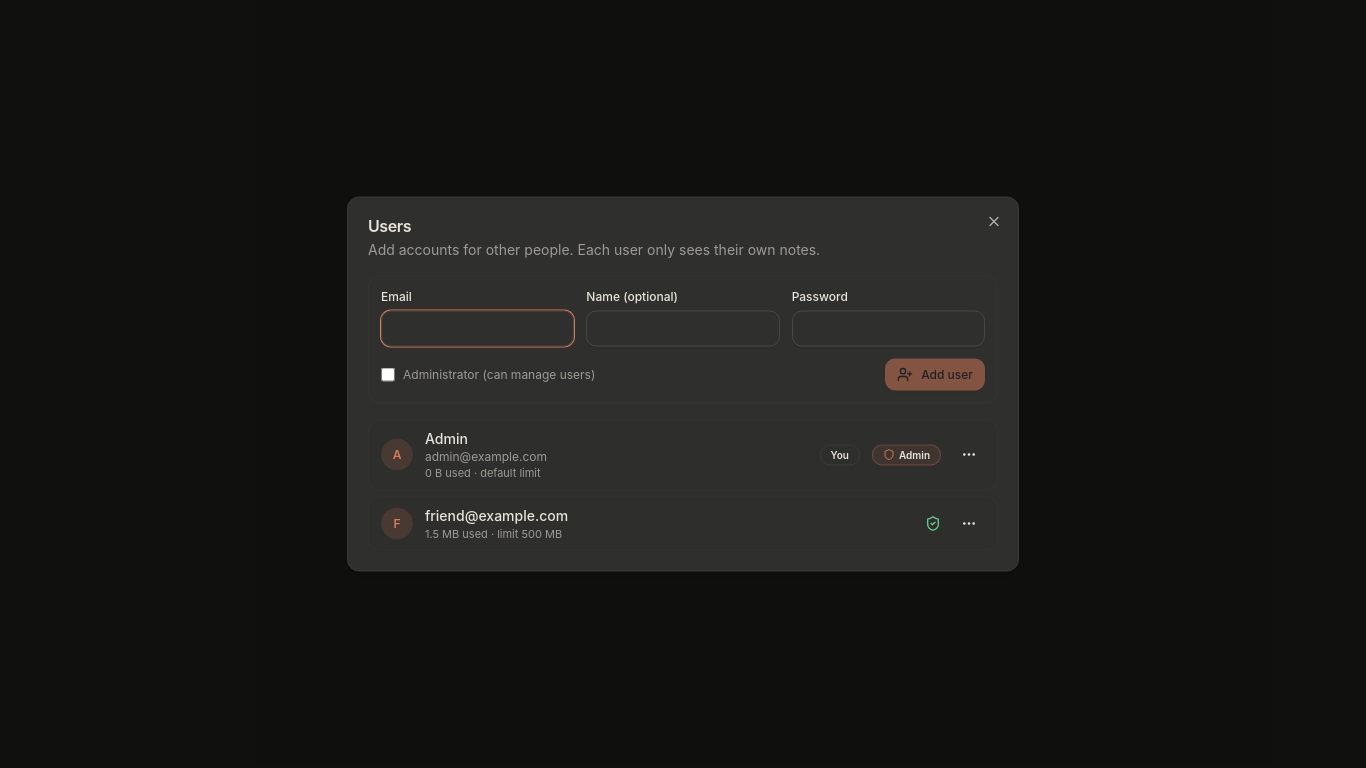
Test: UsersDialog › lists the accounts and adds a user
This screenshot has width=1366, height=768.
expect the text "friend@example.com" is shown: met, box left=425, top=506, right=568, bottom=523
expect the text "You" is shown: met, box left=820, top=444, right=860, bottom=465
Type " new@example.com " into the field labelled "Email" at (478, 328), box left=381, top=310, right=574, bottom=346
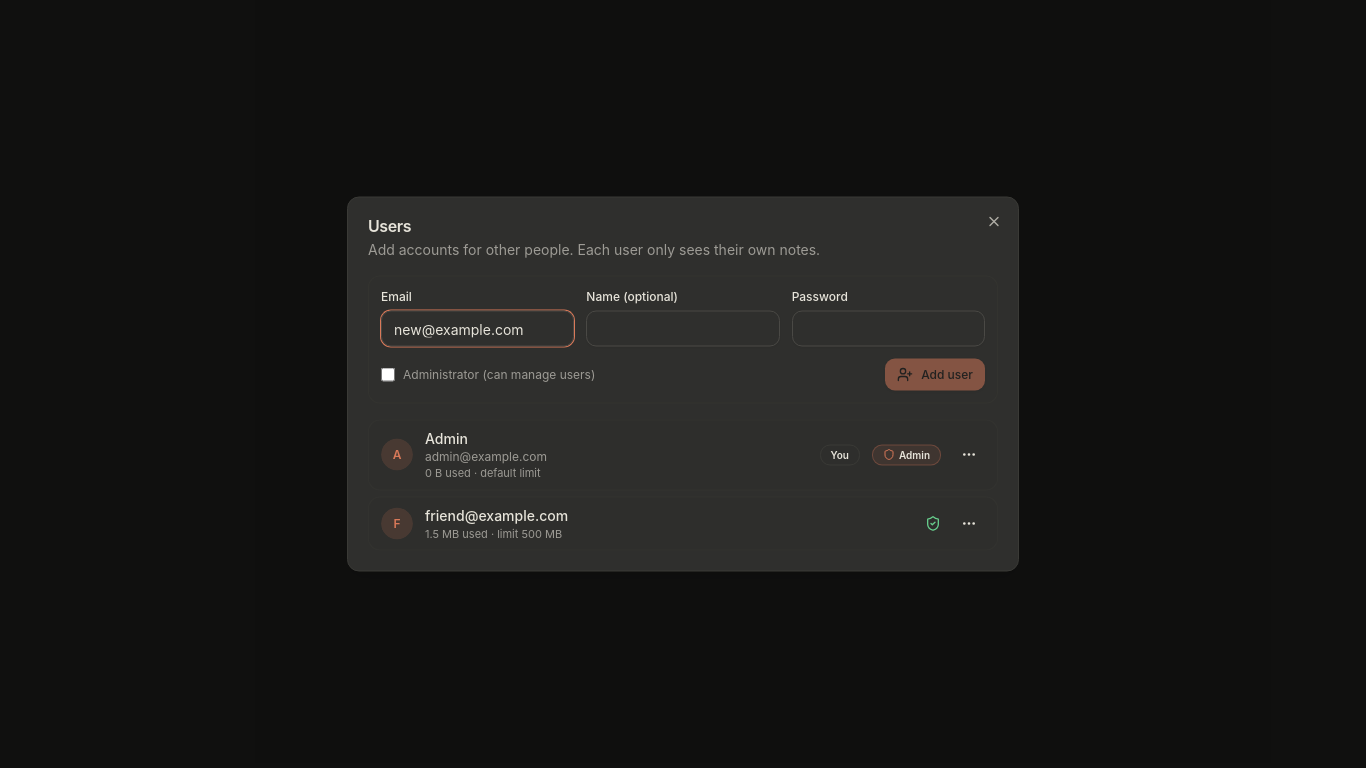
Type "short" into the password field labelled "Password" at (888, 328), box left=792, top=310, right=985, bottom=346
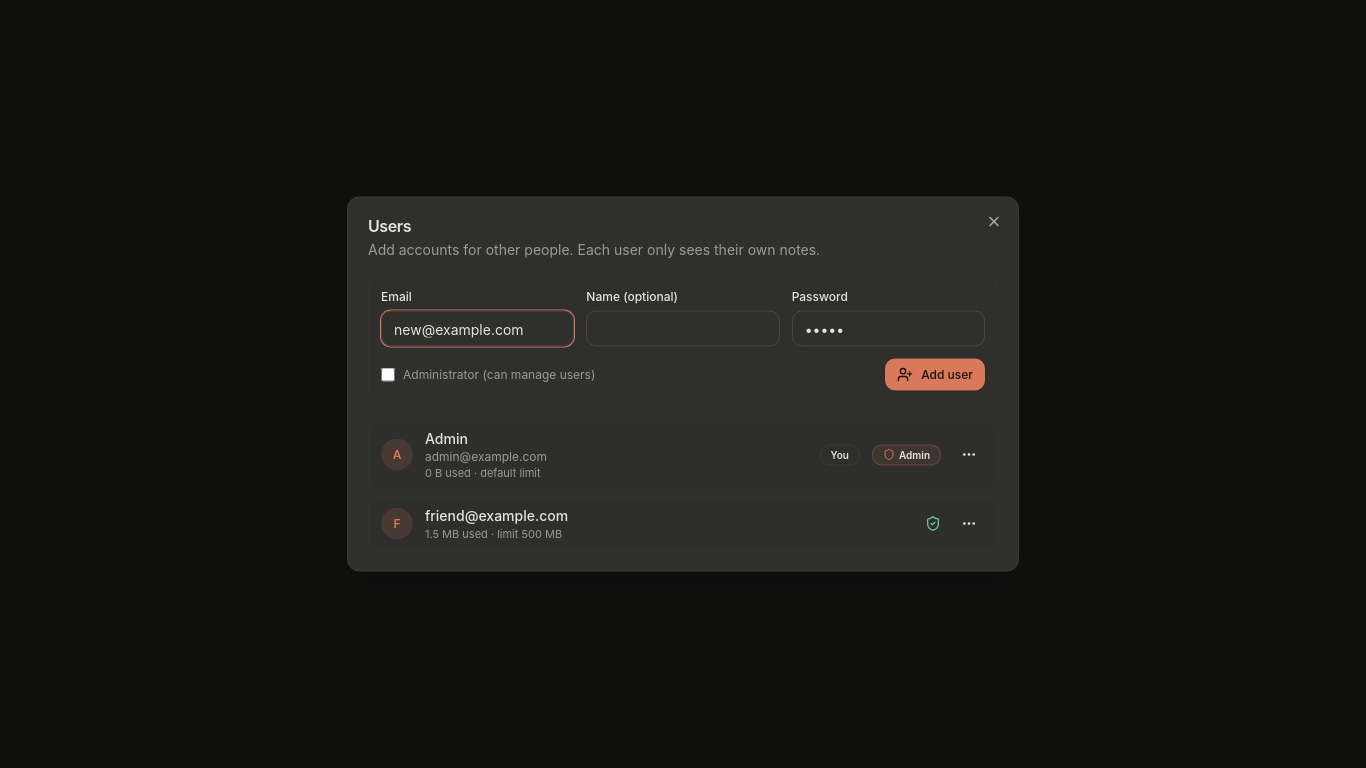
Click the button "Add user" at (935, 374), box left=885, top=358, right=985, bottom=390
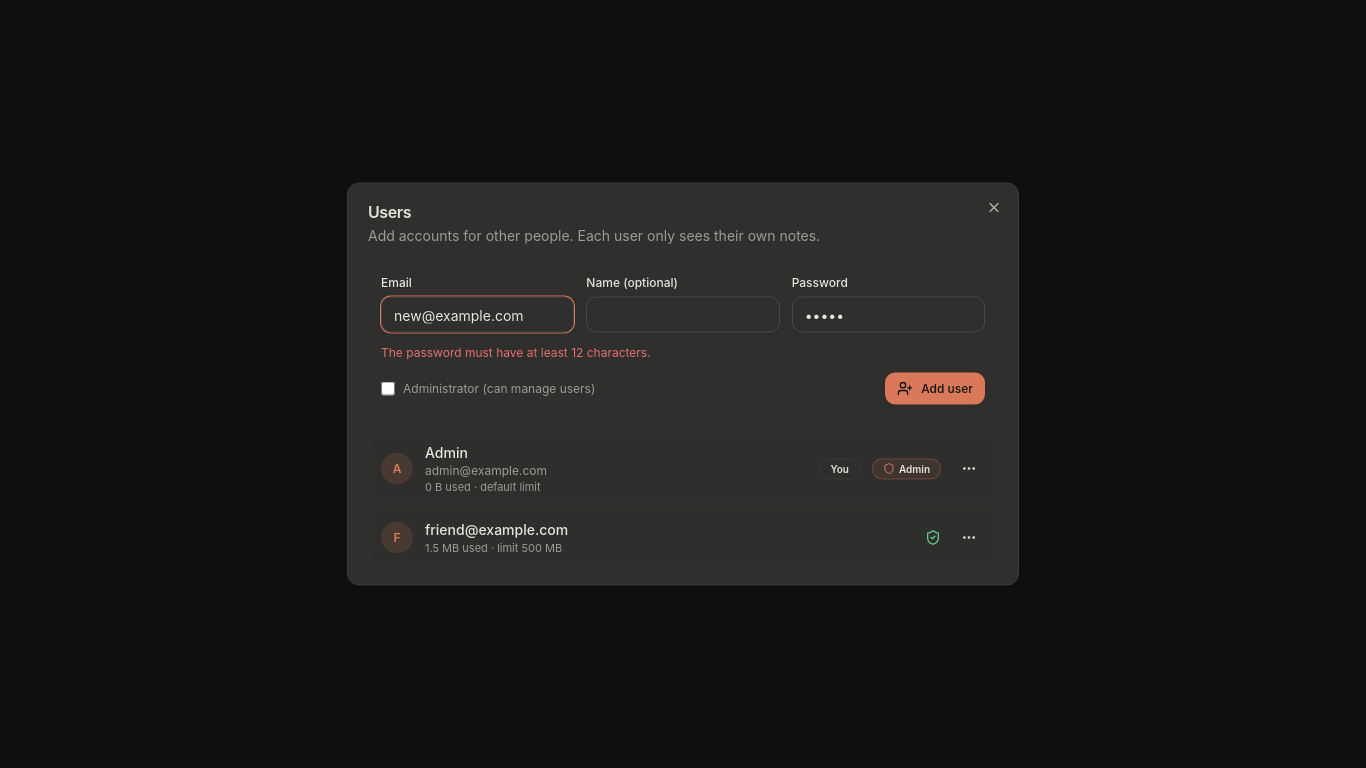
expect the message "The password must have at least 12 characters." is shown: met, box left=381, top=344, right=651, bottom=360
Type "long-enough-password" into the password field labelled "Password" at (888, 314), box left=792, top=296, right=985, bottom=332
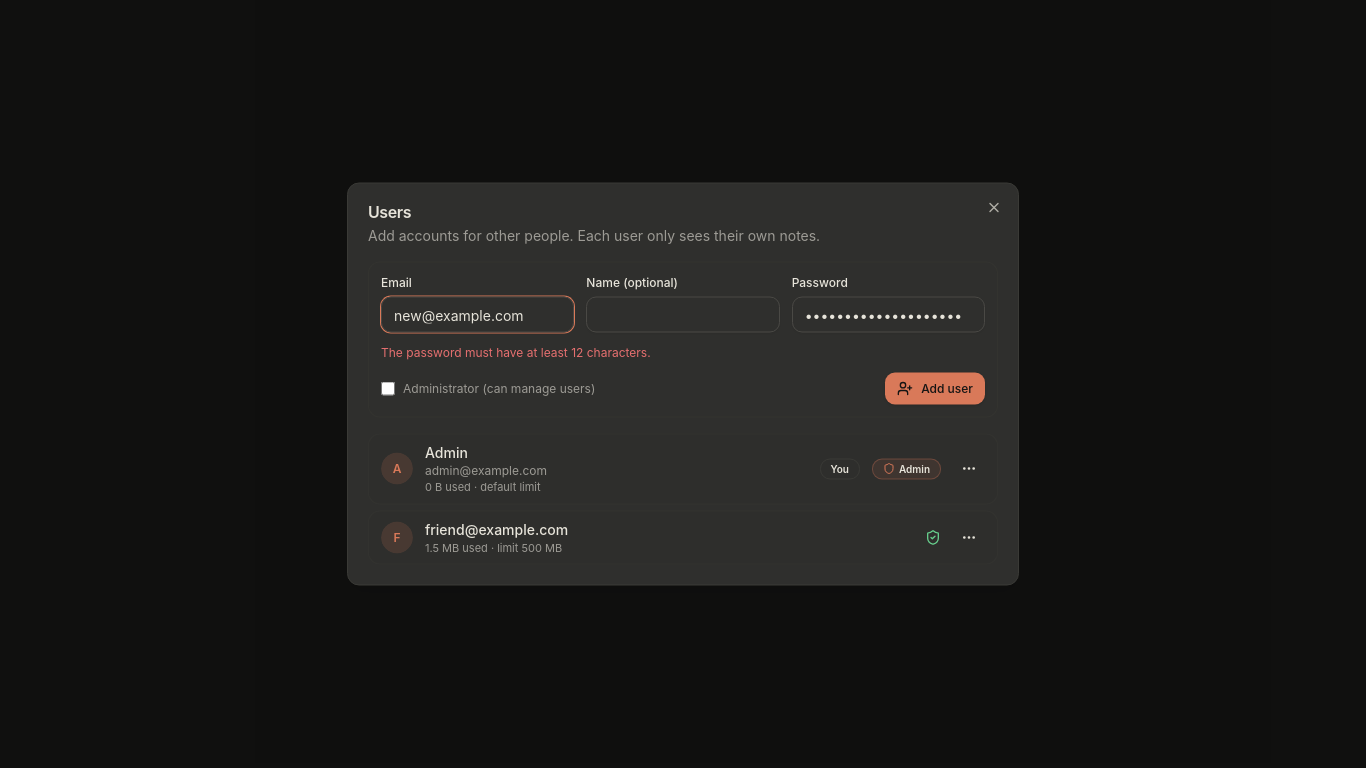
Click the button "Add user" at (935, 388), box left=885, top=372, right=985, bottom=404
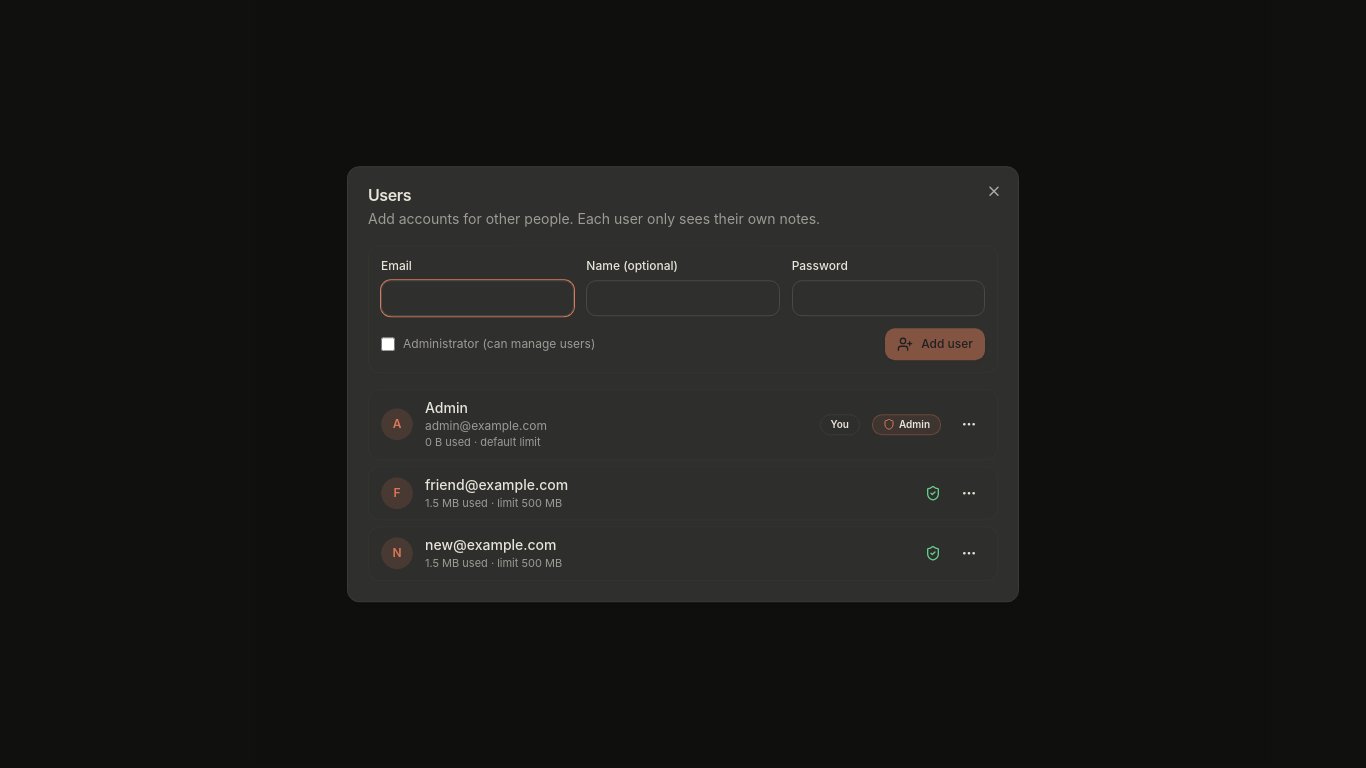
expect the text "new@example.com" is shown: met, box left=425, top=536, right=556, bottom=553
